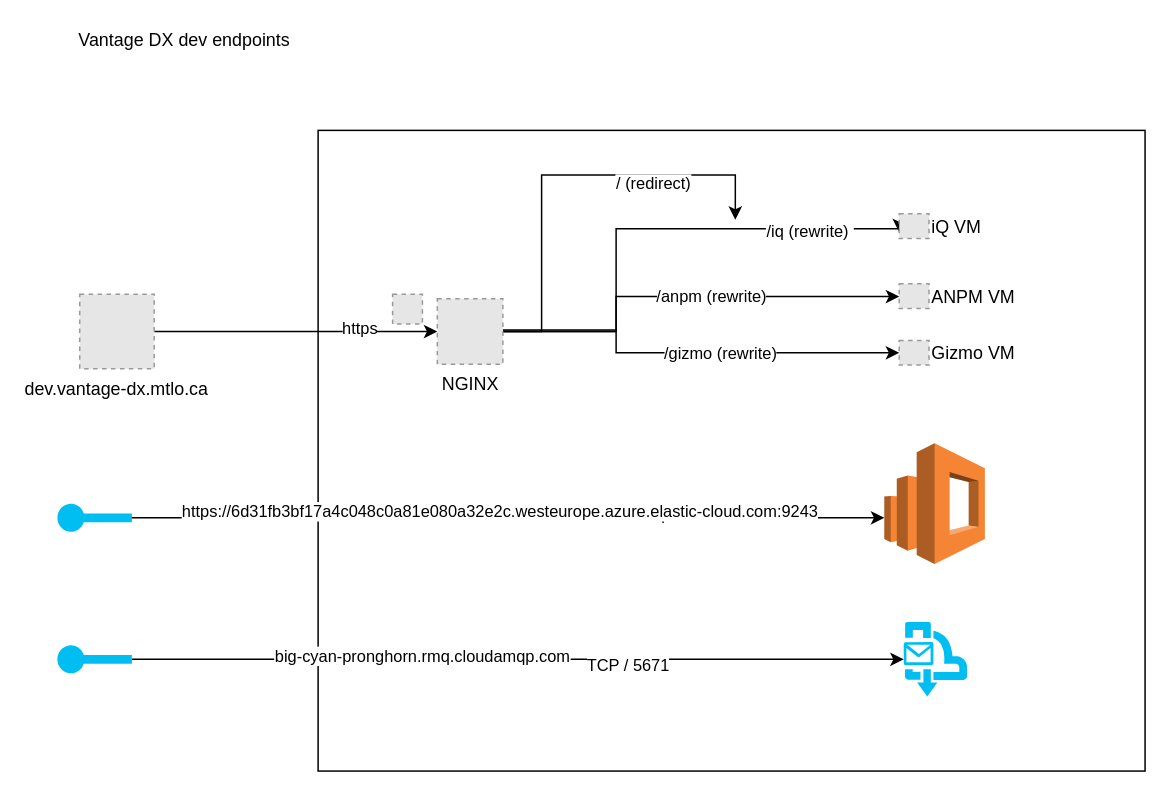
This 1173x797 diagram has some shape labels left out. Grey dashed boxes stand in for pictures. Here are the shapes that lost their labels. From the top down, the box of each, then its label:
(883, 442, 985, 564): Elasticsearch
(903, 621, 966, 696): RabbitMQ
